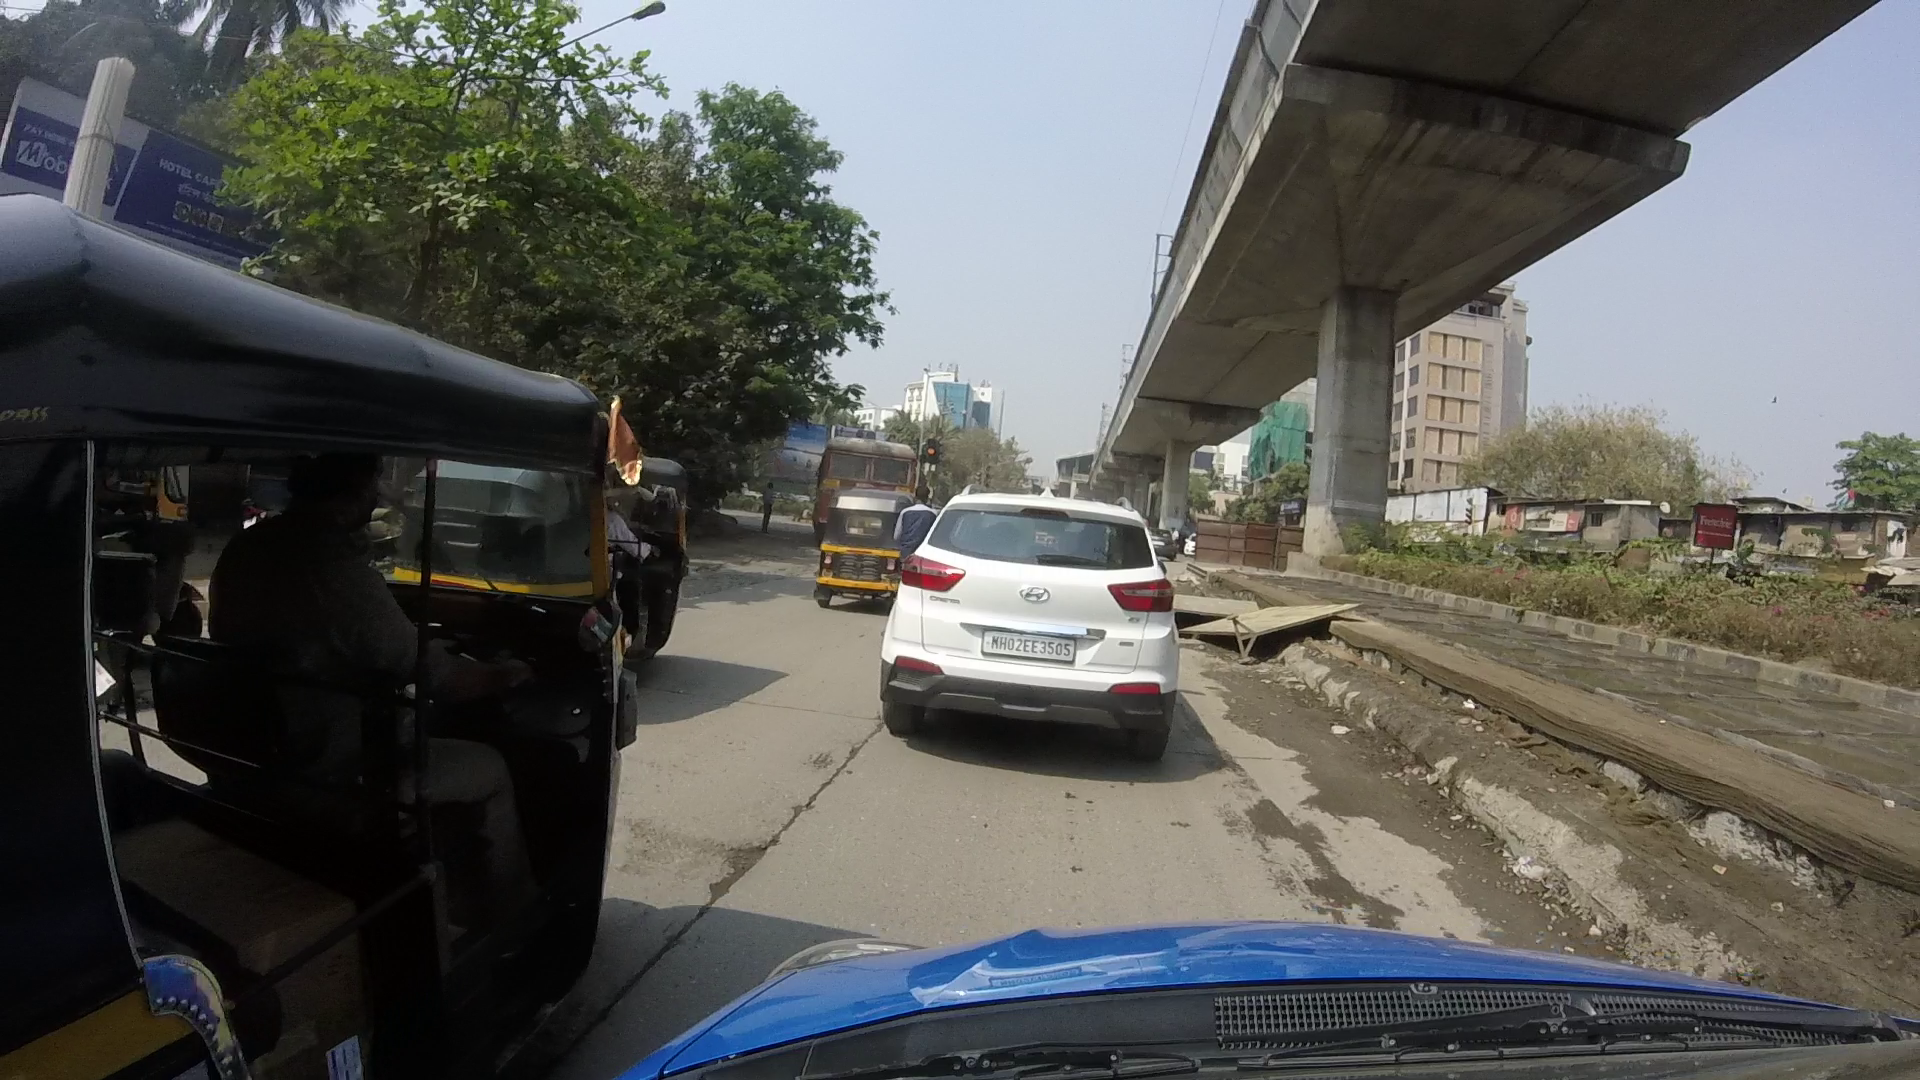car: (877, 458, 1212, 785)
rickshaw: (12, 193, 642, 1065), (430, 436, 707, 669), (810, 472, 951, 640)
